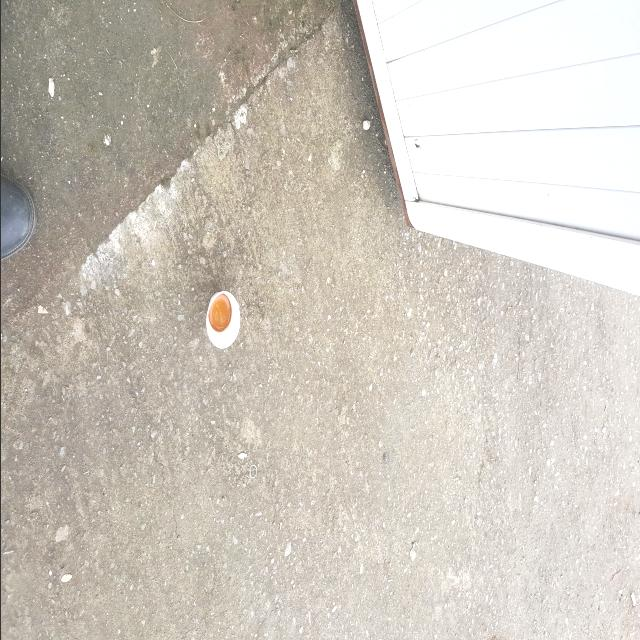Cigarette: (630, 592, 635, 605)
Other plastic bottle: (248, 464, 256, 479)
Paper cup: (205, 291, 239, 349)
